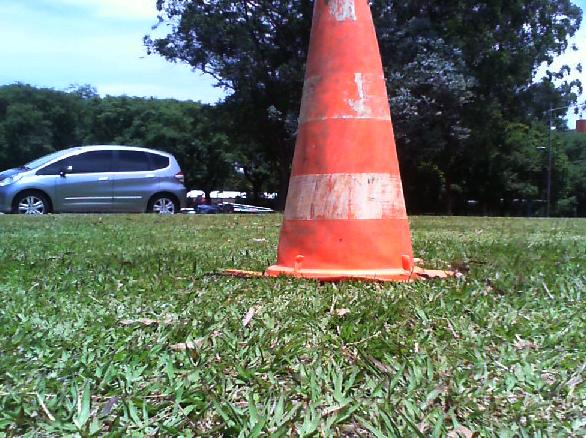0 cone: (263, 0, 454, 279)
